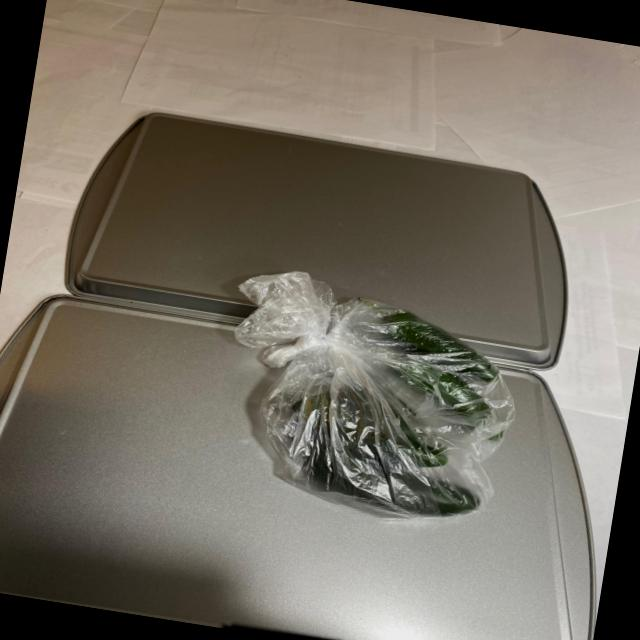chilli: (235, 274, 522, 536)
